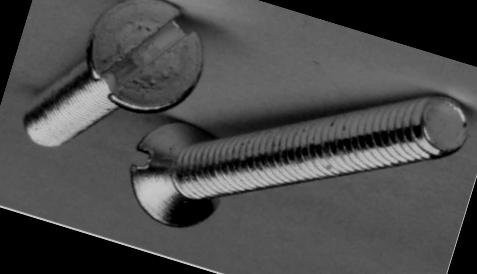screw: (72, 0, 216, 124)
